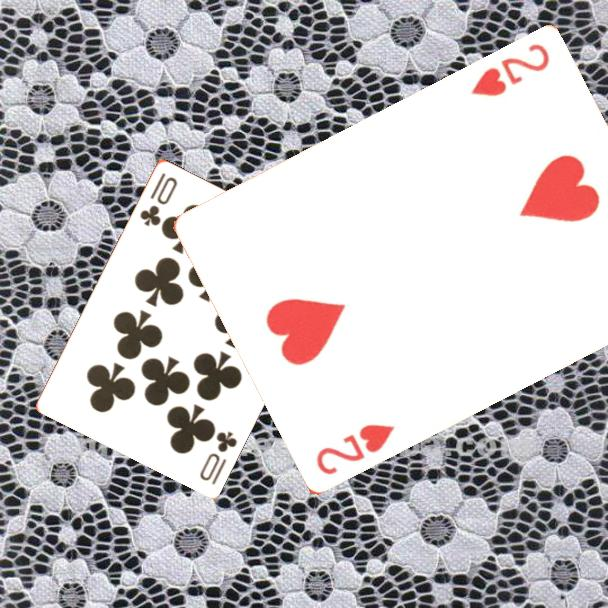c10: (136, 169, 180, 229), (196, 427, 240, 487)
h02: (467, 40, 553, 101), (312, 421, 398, 479)
